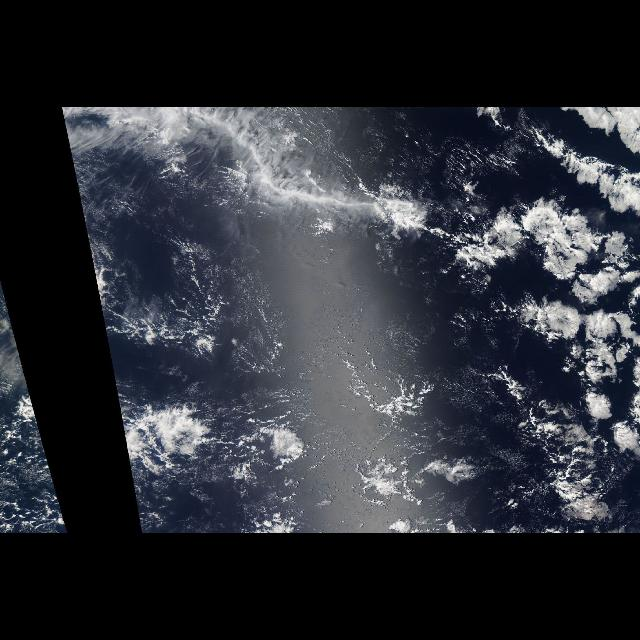Flower: (426, 168, 640, 466)
Sugar: (81, 178, 285, 372)
